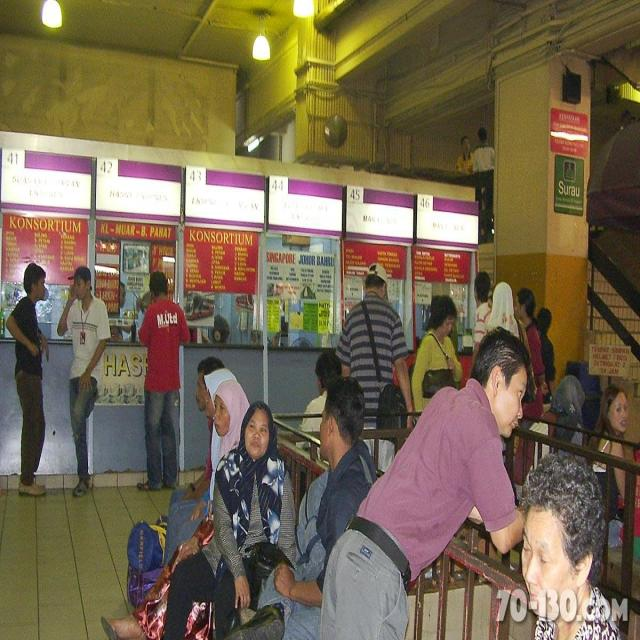body: (316, 323, 532, 640), (223, 374, 379, 640), (99, 378, 251, 640), (158, 397, 299, 639), (516, 448, 626, 640), (334, 262, 415, 476), (164, 368, 239, 584), (161, 352, 227, 570), (54, 262, 112, 502), (132, 268, 193, 495), (2, 258, 53, 502), (584, 380, 630, 546), (512, 286, 549, 488), (410, 293, 465, 422), (295, 350, 344, 466), (540, 372, 586, 465), (116, 270, 153, 346), (468, 269, 493, 380), (486, 280, 524, 342), (471, 125, 495, 214), (184, 288, 214, 351), (535, 307, 556, 390), (455, 134, 475, 177), (266, 313, 287, 351), (122, 246, 148, 270), (487, 267, 496, 311), (529, 303, 540, 336), (119, 281, 126, 309)
